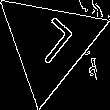L_SW: (22, 14, 77, 73)
